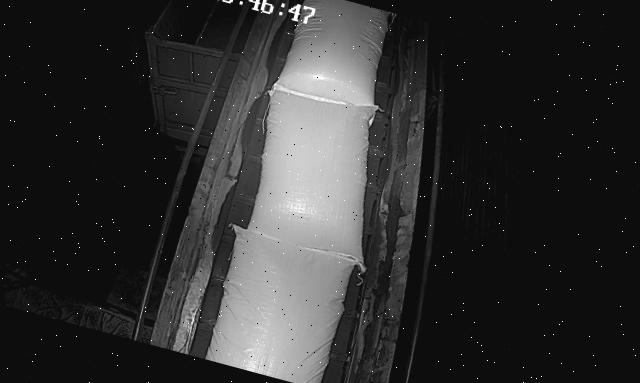bag: (236, 79, 403, 264), (196, 223, 361, 383), (270, 0, 401, 125)
